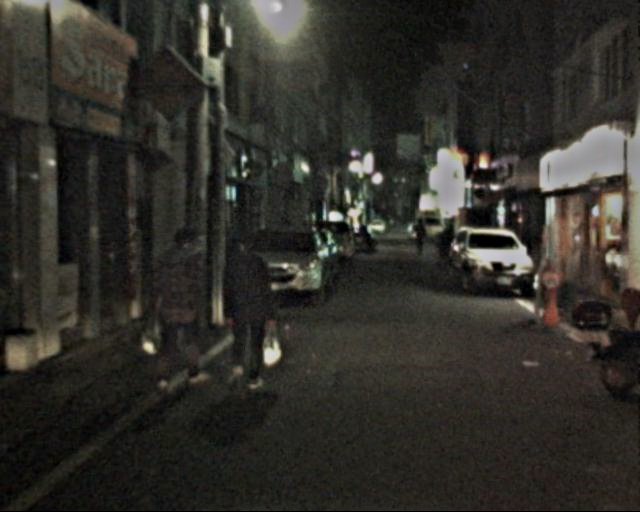person: (145, 224, 217, 388), (211, 237, 282, 389), (413, 221, 427, 254)
